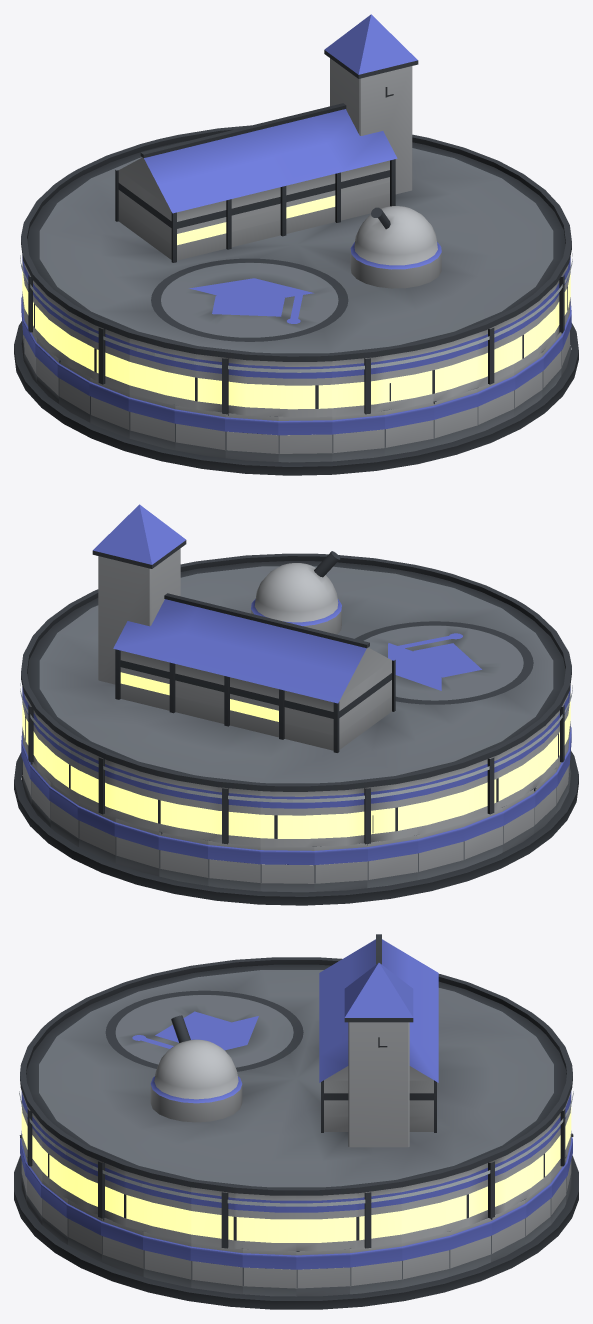
Rendered from academy_m_far.glb.
The picture shows the model from 3 angles, top to bottom: view 1: azimuth 30°, elevation 25°; view 2: azimuth 150°, elevation 25°; view 3: azimuth 270°, elevation 25°; orthographic projection.
Visible parts, largest first — view 1: Roof, Base; view 2: Roof, Base; view 3: Roof, Base.
Boxes of the visible parts, box(x1,y1,x2,y2) form: Roof: box(20, 14, 572, 417); Base: box(14, 296, 578, 475); Roof: box(20, 504, 572, 847); Base: box(14, 726, 578, 905); Roof: box(19, 934, 573, 1251); Base: box(14, 1133, 578, 1309).
Bounding box in the file's own units: 14.75 × 8.2 × 14.75.
